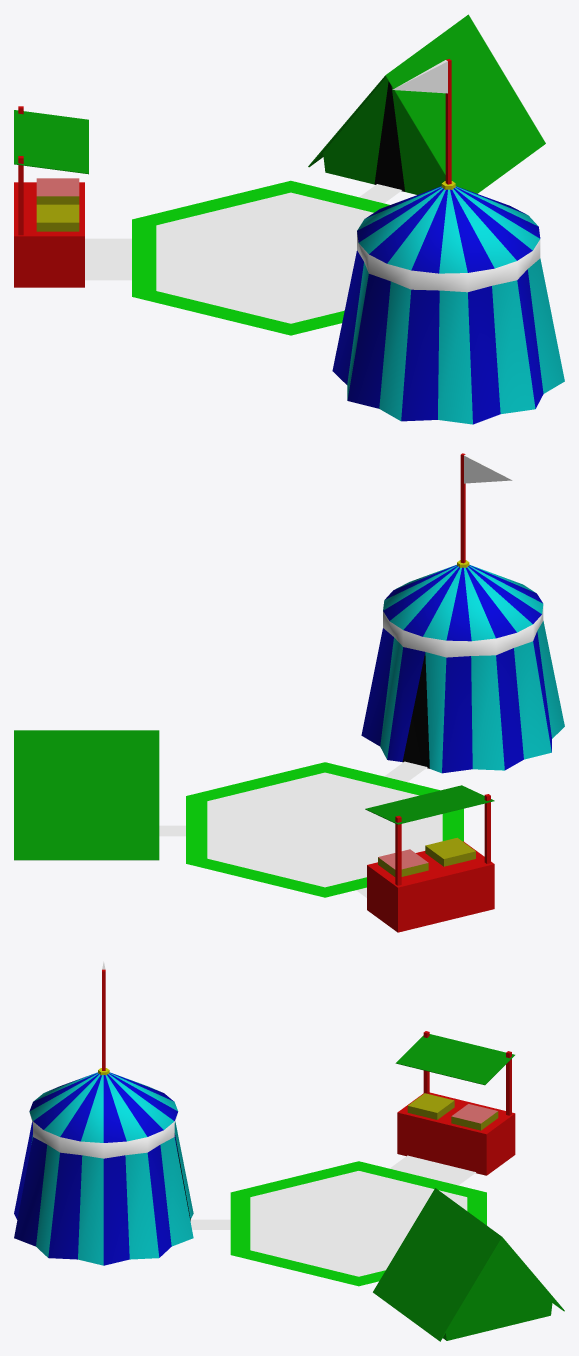
The model's file is FBX_Camp.fbx.
The picture shows the model from 3 angles, top to bottom: view 1: azimuth 30°, elevation 25°; view 2: azimuth 150°, elevation 25°; view 3: azimuth 270°, elevation 25°; orthographic projection. The views are drawn at different scales.
Visible parts, largest first — view 1: Camp; view 2: Camp; view 3: Camp.
Boxes of the visible parts, x1=… form: Camp: x1=14, y1=14, x2=564, y2=424; Camp: x1=14, y1=453, x2=564, y2=932; Camp: x1=14, y1=961, x2=564, y2=1341.
Bounding box in the file's own units: 440 × 246 × 481.
